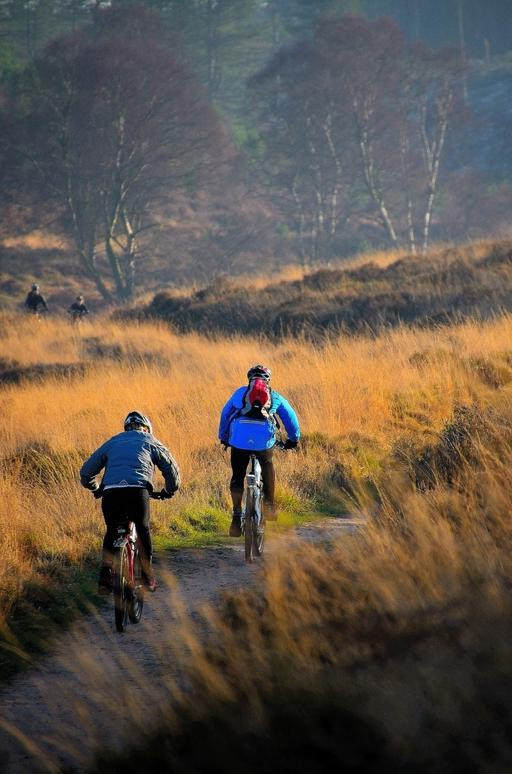non-vehicle: (94, 491, 161, 632), (224, 439, 284, 563)
